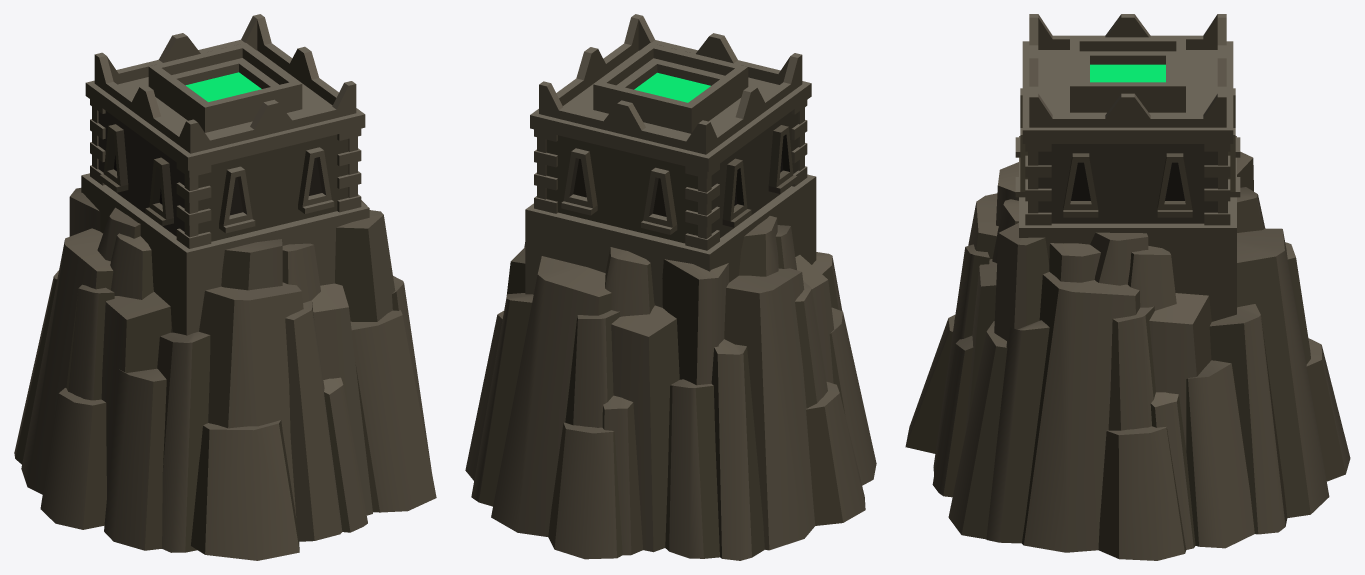
File: MediumLess_SF_Bld_Undead_Castle_Tower.fbx
The picture shows the model from 3 angles, left to right: view 1: azimuth 30°, elevation 25°; view 2: azimuth 150°, elevation 25°; view 3: azimuth 270°, elevation 25°; orthographic projection. The views are drawn at different scales.
Visible parts, largest first — view 1: SF_Bld_Undead_Castle_Tower; view 2: SF_Bld_Undead_Castle_Tower; view 3: SF_Bld_Undead_Castle_Tower.
Part boxes in pixels (x1=…): SF_Bld_Undead_Castle_Tower: x1=14, y1=14, x2=436, y2=560; SF_Bld_Undead_Castle_Tower: x1=465, y1=14, x2=876, y2=560; SF_Bld_Undead_Castle_Tower: x1=905, y1=14, x2=1350, y2=560.
Bounding box in the file's own units: 1164 × 1229 × 1197.
